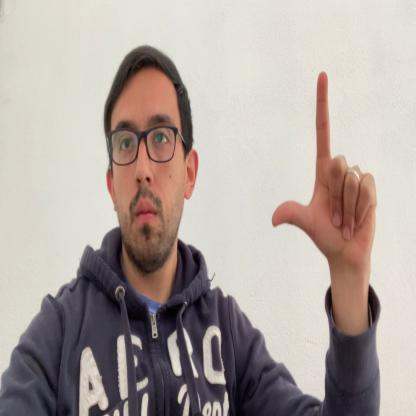L: (271, 70, 377, 268)
